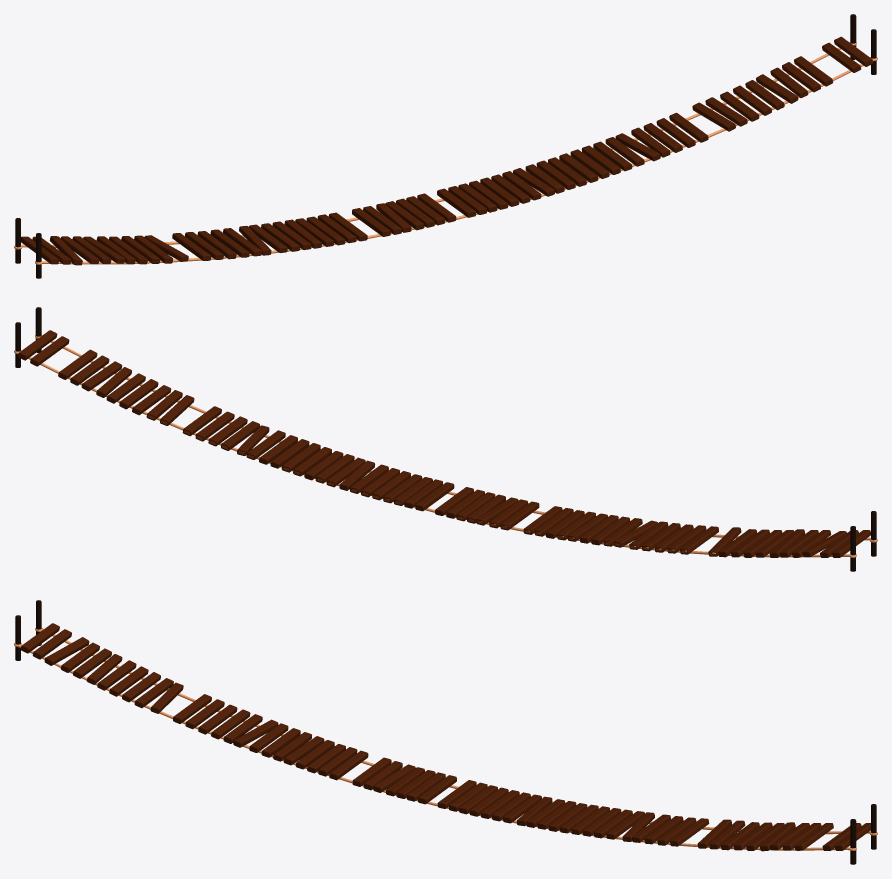
The model's file is bridge.FBX.
3 renders of one model, top to bottom at view 1: azimuth 30°, elevation 25°; view 2: azimuth 150°, elevation 25°; view 3: azimuth 330°, elevation 25°, orthographic.
Parts seen in each view (by area): view 1: bridge; view 2: bridge; view 3: bridge.
Part boxes in pixels (x1=…): bridge: x1=14, y1=14, x2=877, y2=278; bridge: x1=14, y1=307, x2=877, y2=571; bridge: x1=14, y1=600, x2=877, y2=864.
Size of the model in its own units: 790 by 78.13 by 50.75.
